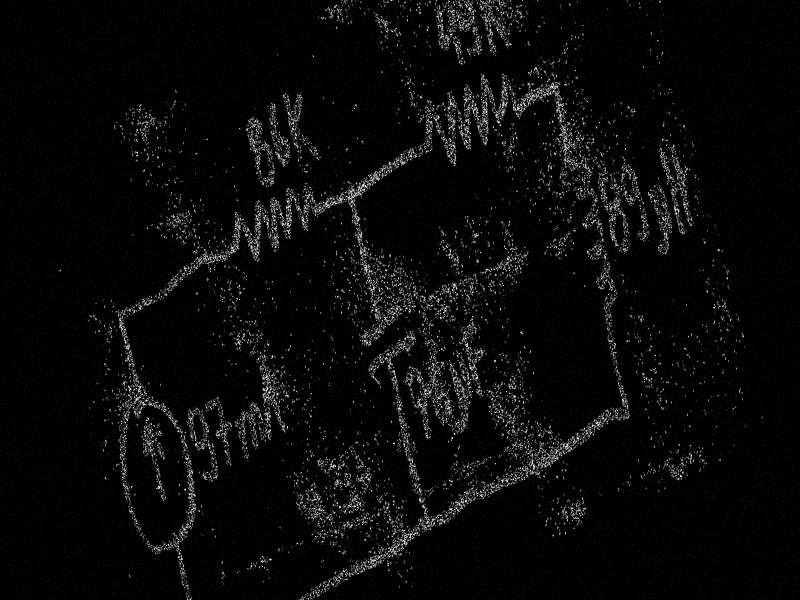4: (430, 0, 468, 76)
6: (420, 343, 457, 430), (262, 97, 295, 171)
7: (398, 356, 441, 447), (201, 387, 243, 475)
8: (593, 163, 637, 264), (242, 111, 282, 196)
9: (180, 397, 224, 492), (614, 158, 656, 251), (451, 0, 488, 69)
A: (248, 352, 289, 444)
F: (456, 314, 493, 399)
H: (655, 138, 698, 240)
k: (279, 81, 325, 180), (473, 0, 514, 62)
m: (231, 399, 270, 461)
u: (442, 347, 482, 436), (642, 180, 680, 259)
